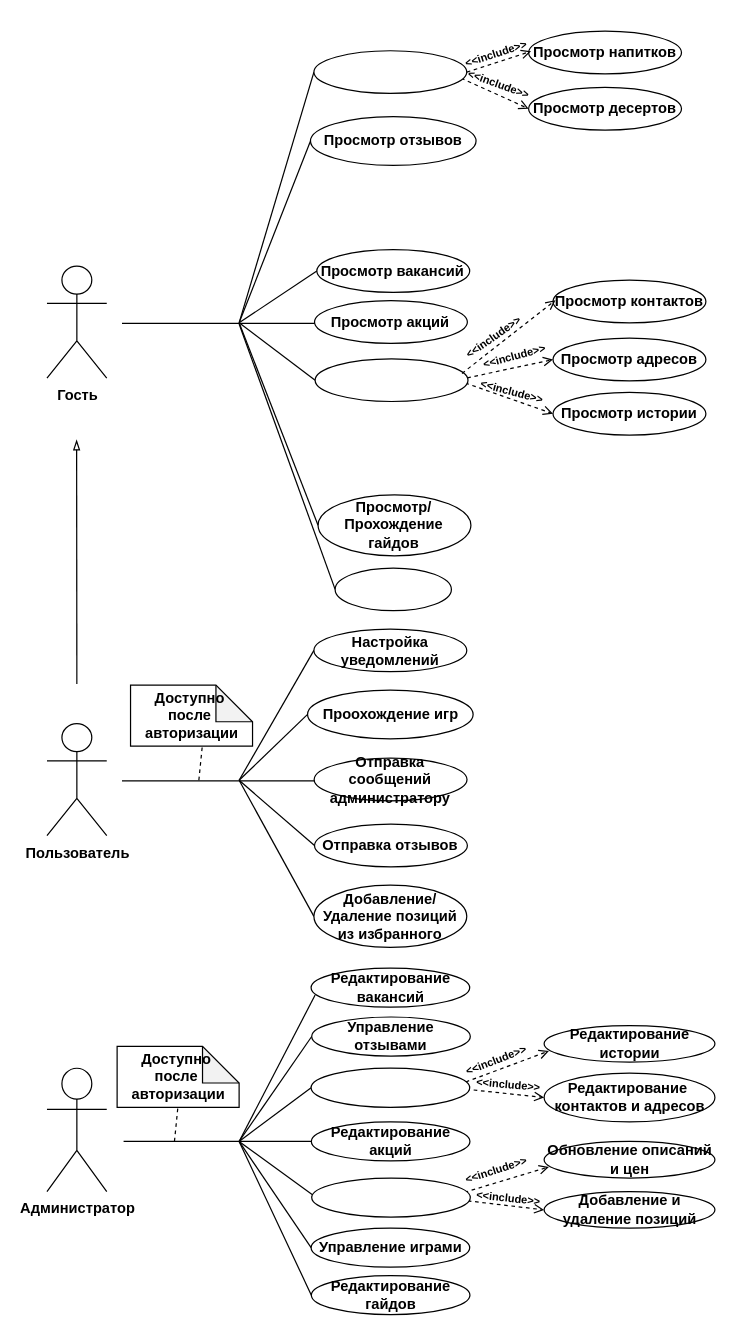
Some shapes in this 737 by 1337 pixel diagram are drawn without their labels. Each missing label, with the centre of its shape:
Просмотр меню: point (390, 71)
Просмотр раздела "О нас": point (391, 380)
Регистрация: point (392, 589)
Управление вкладкой "О нас": point (390, 1087)
Управление меню: point (390, 1197)
